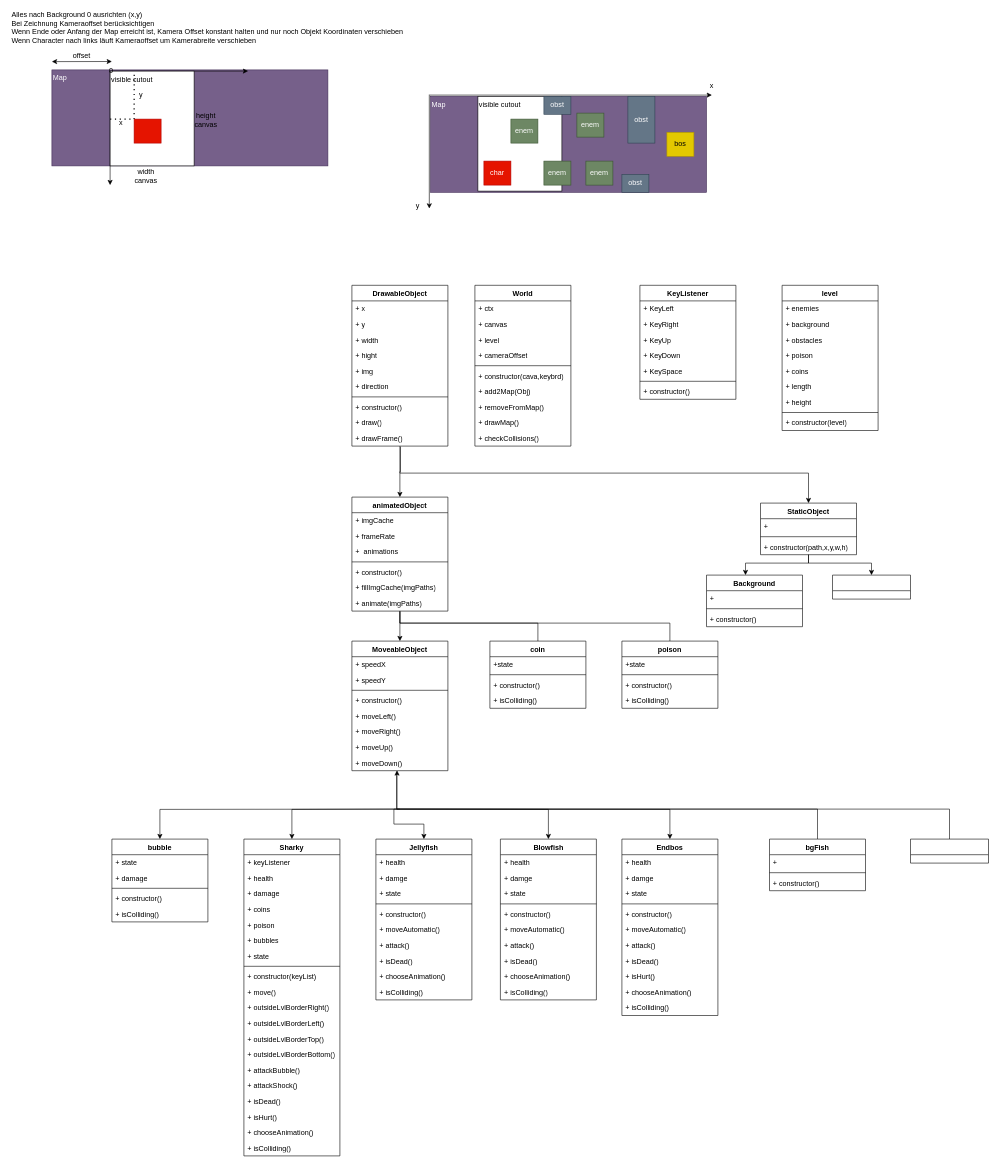
Some shapes in this 999 by 1168 pixel diagram are drawn without their labels. The shapes that lost their labels are listed below. From the top down, each one's centre as x and y in pixels, then its label:
At (147,130): "obj".
At (871,586): "Obstacles".
At (949,850): "bars".
